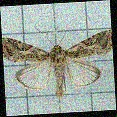Spodoptera litura: (4, 25, 114, 97)
